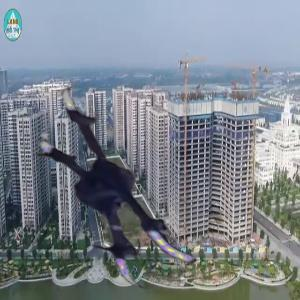drone: (22, 76, 235, 289)
